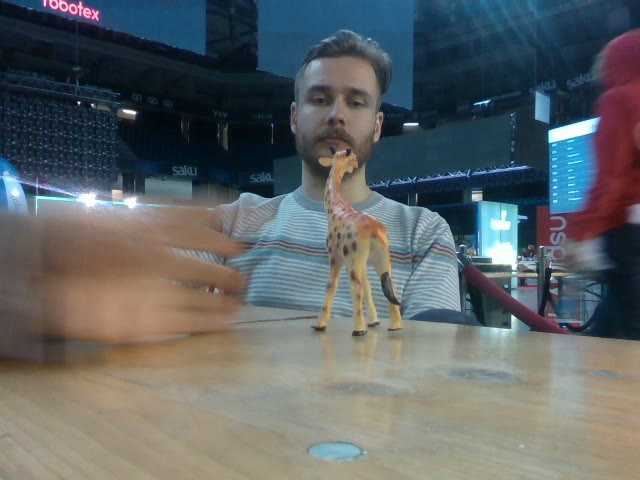toy: (309, 145, 402, 336)
